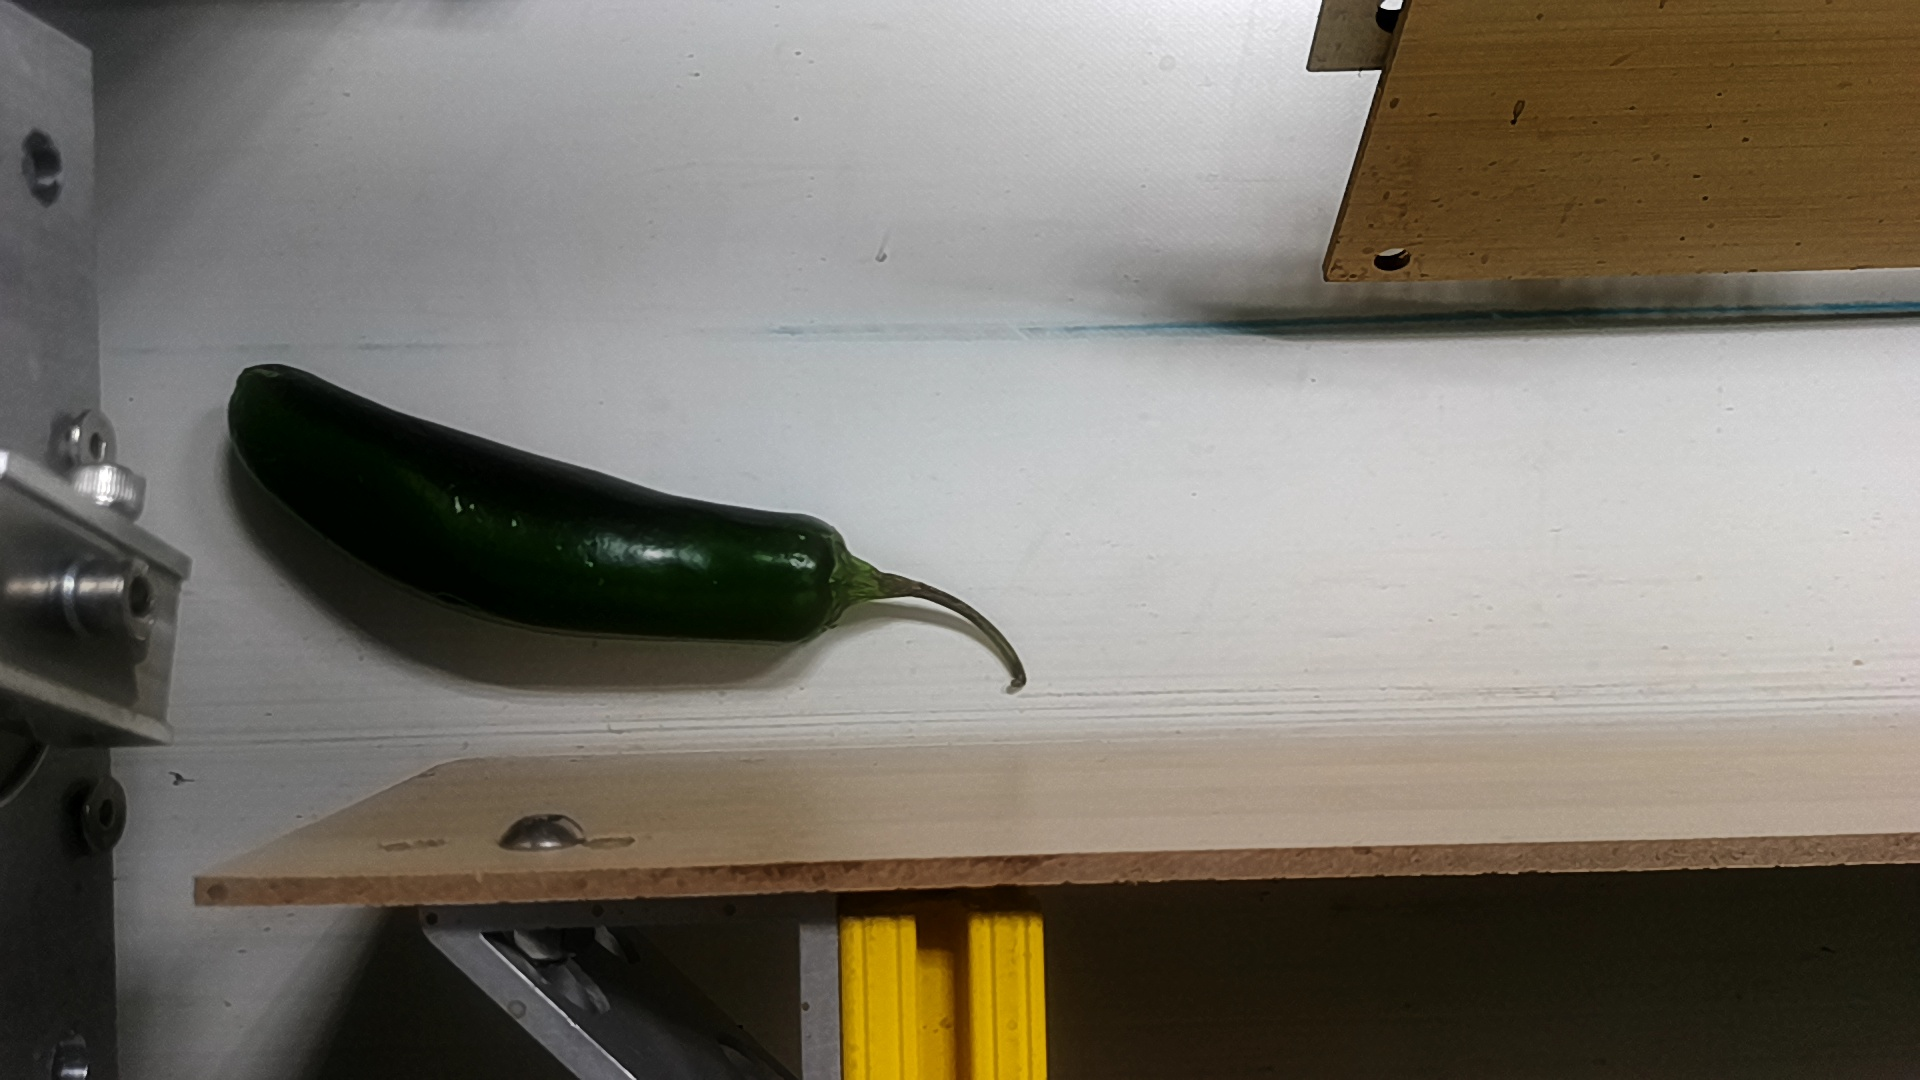Cut Point: (760, 502, 909, 653)
